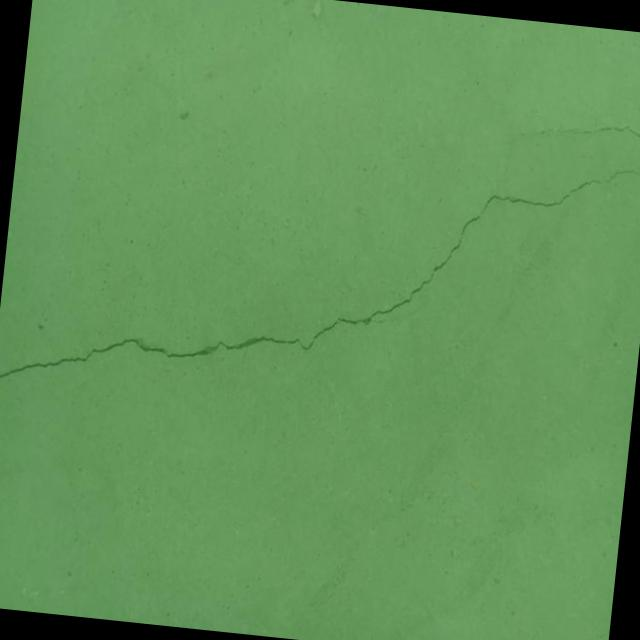crack: (0, 98, 640, 449), (533, 112, 640, 149)
